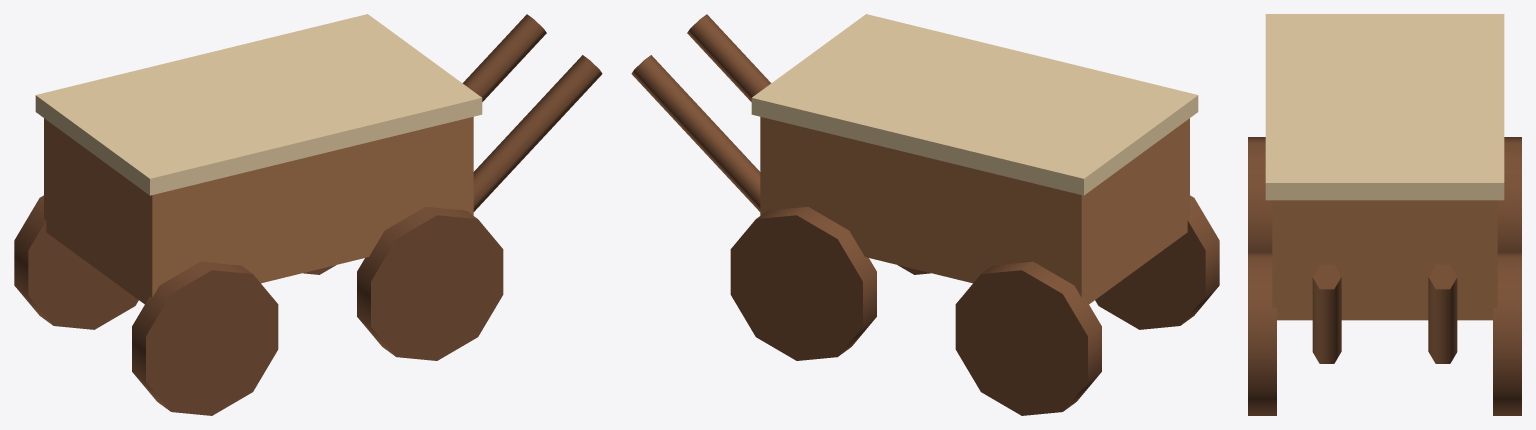
Rendered from cart.glb.
The picture shows the model from 3 angles, left to right: view 1: azimuth 30°, elevation 25°; view 2: azimuth 150°, elevation 25°; view 3: azimuth 270°, elevation 25°; orthographic projection. The views are drawn at different scales.
Bounding box in the file's own units: 1.83 × 0.87 × 0.85.
